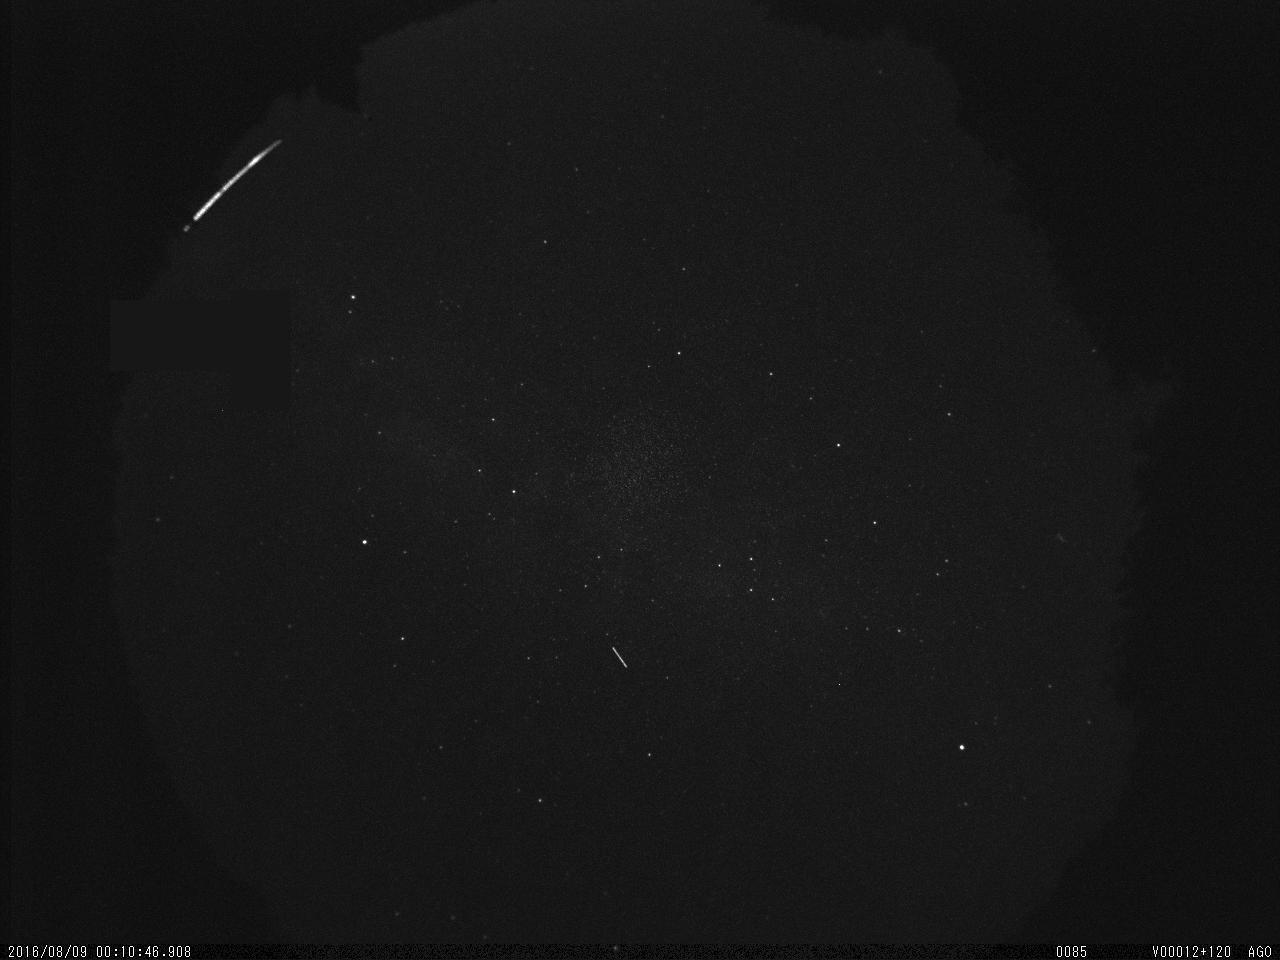Meteor: (183, 131, 287, 230)
